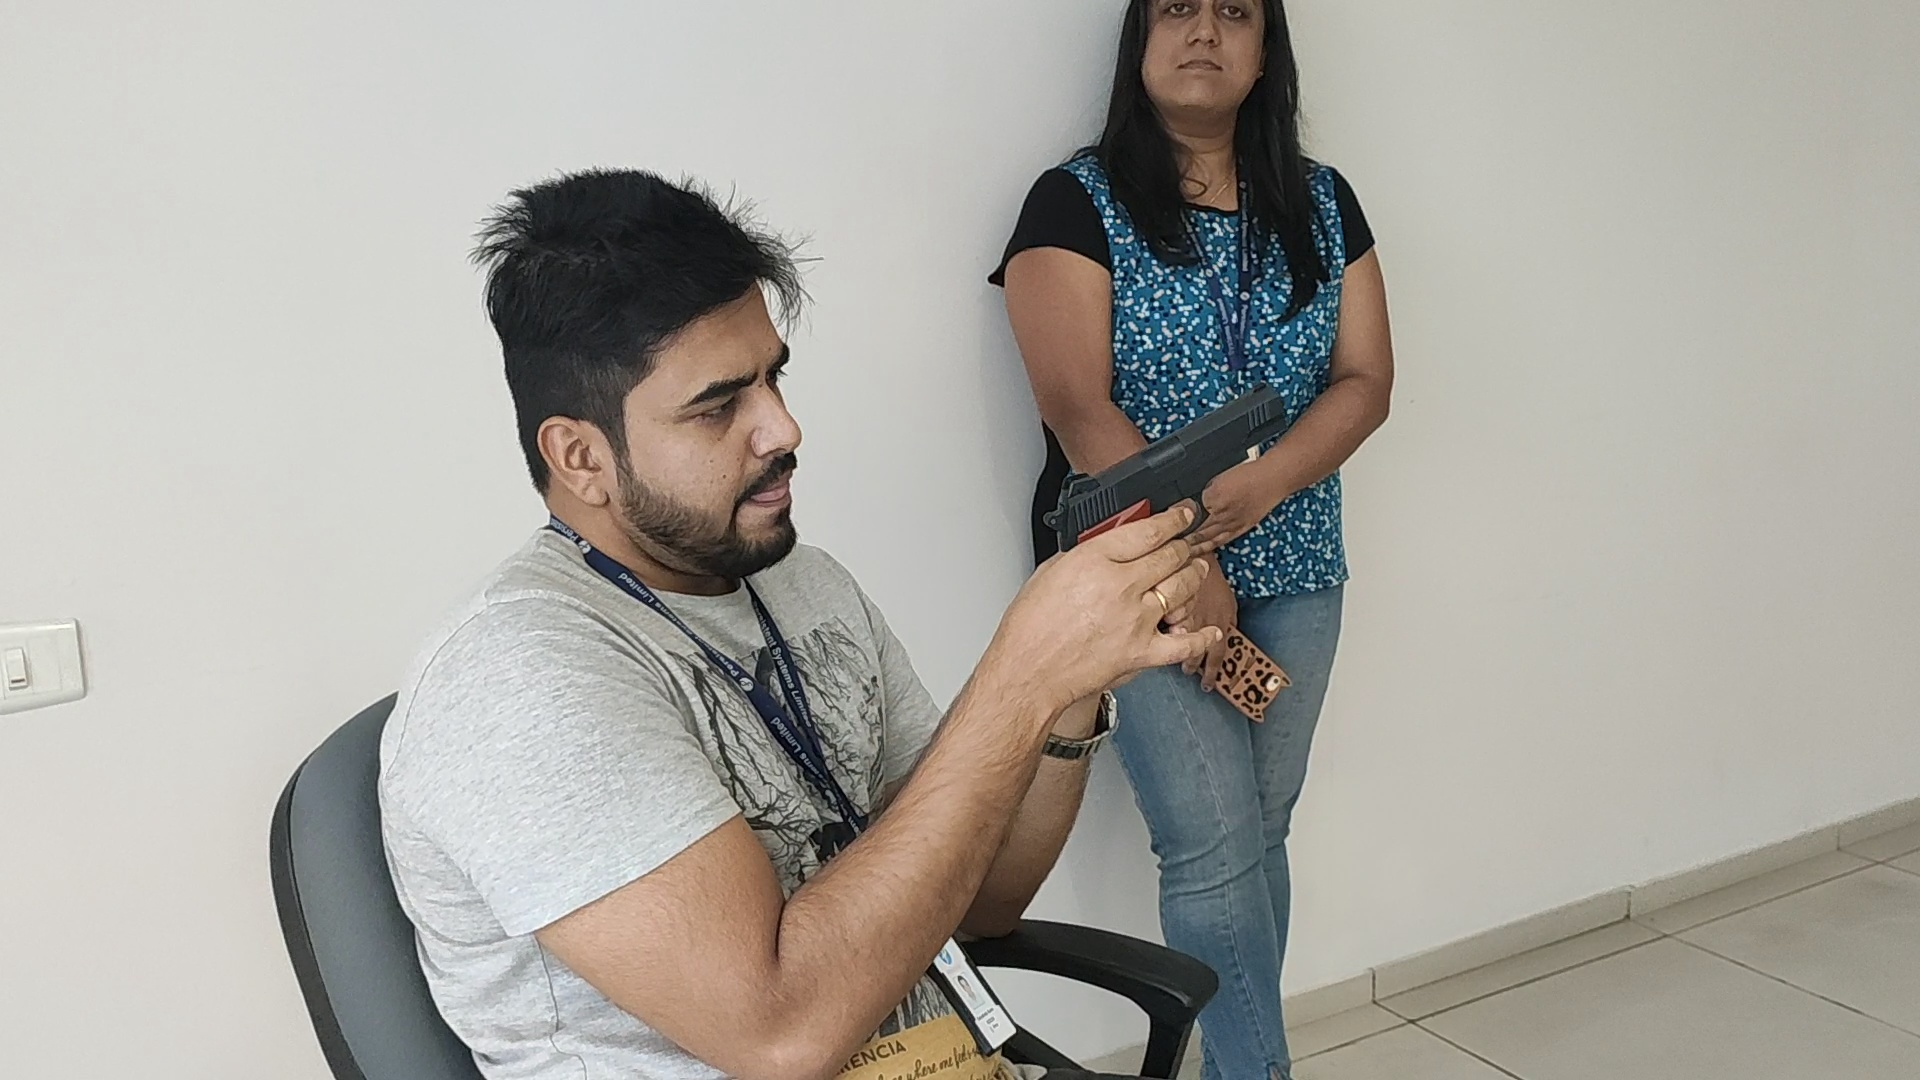gun: (1042, 386, 1287, 504)
